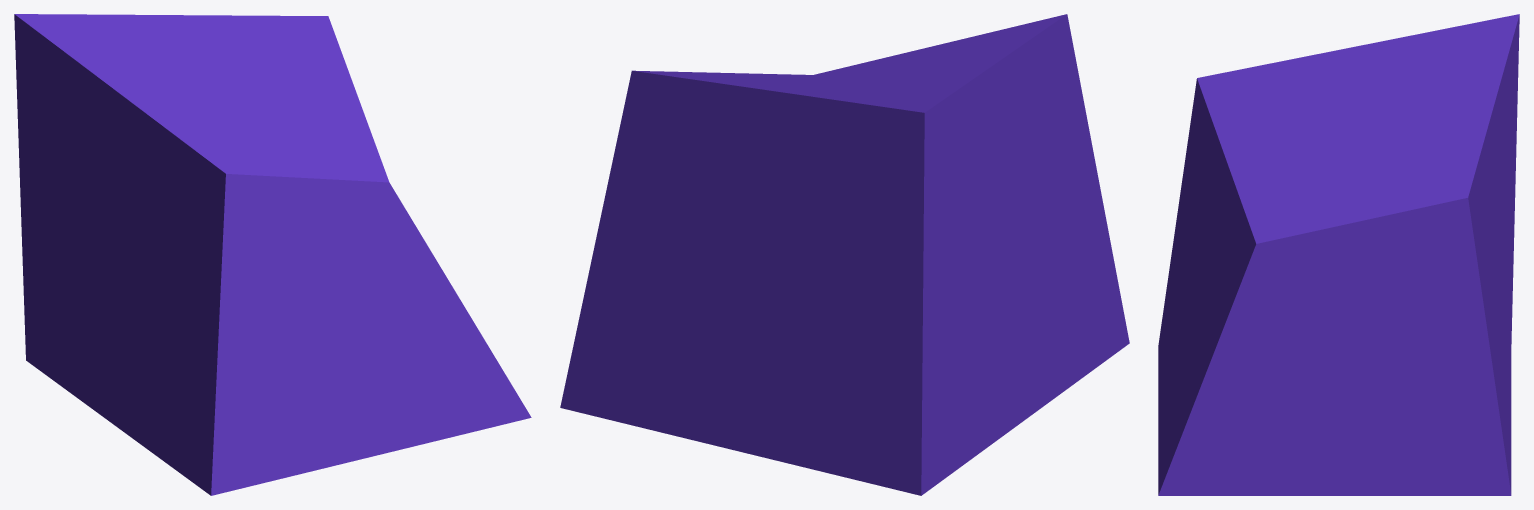
The model's file is FirstPersonExampleMap2020.fbx.
The picture shows the model from 3 angles, left to right: view 1: azimuth 30°, elevation 25°; view 2: azimuth 150°, elevation 25°; view 3: azimuth 270°, elevation 25°; orthographic projection. The views are drawn at different scales.
Parts seen in each view (by area): view 1: untitled_2; view 2: untitled_2; view 3: untitled_2.
Part boxes in pixels (x1,y1,x2,y2): untitled_2: [14, 14, 531, 495]; untitled_2: [560, 14, 1129, 495]; untitled_2: [1158, 14, 1519, 495].
Size of what is drawn, in the model's own units: 205 by 205 by 206.
